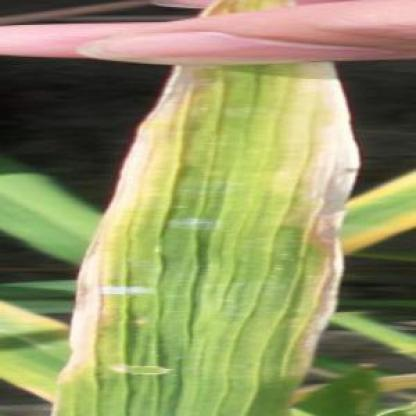Blight: (55, 65, 216, 393), (262, 63, 373, 380)
